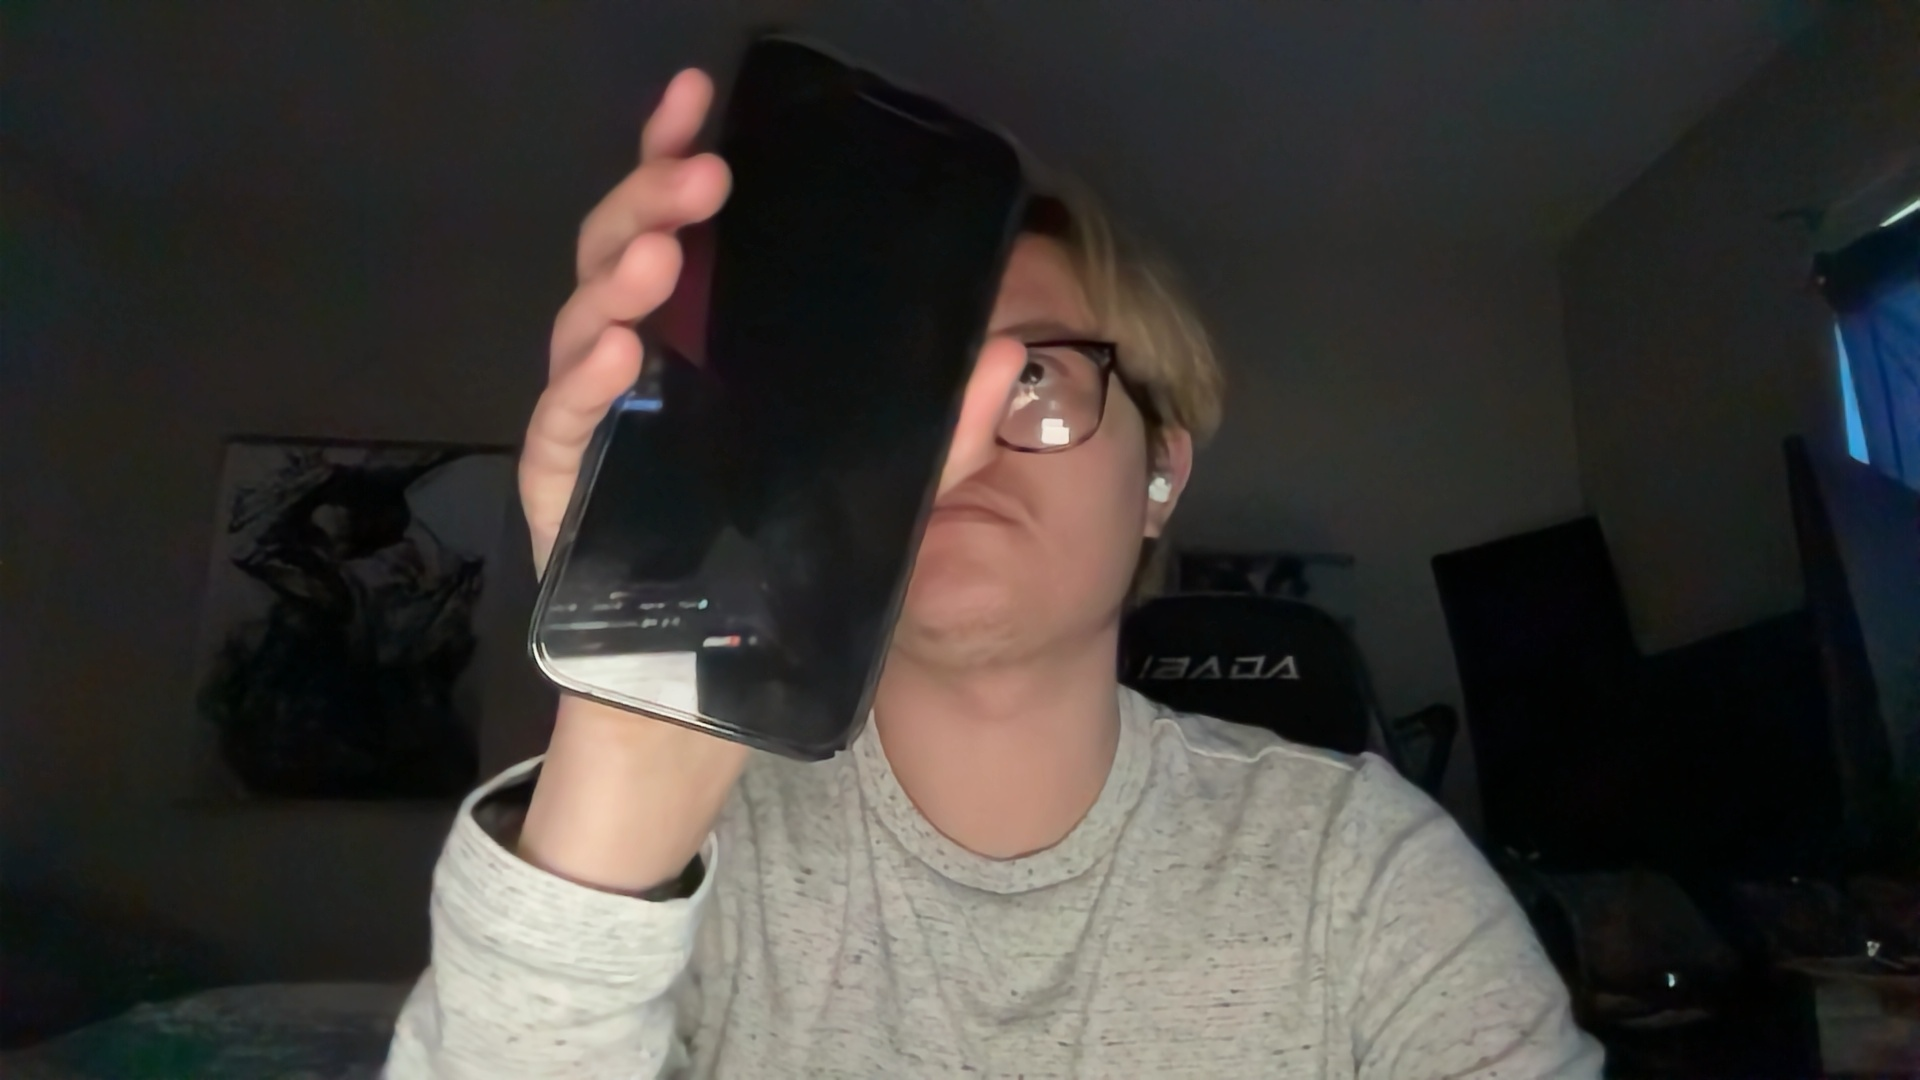phone: (514, 33, 1025, 765)
